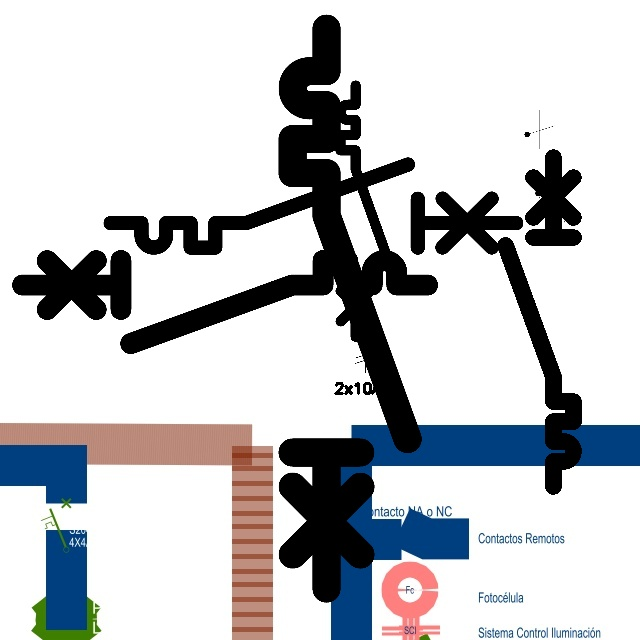interruptor_termomagnetico: (278, 14, 422, 603), (100, 154, 527, 258), (12, 250, 438, 354), (497, 149, 582, 495), (334, 79, 398, 343)
